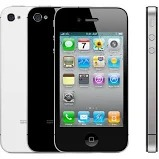iphone: (53, 4, 132, 155)
iphone4: (53, 4, 132, 155)
